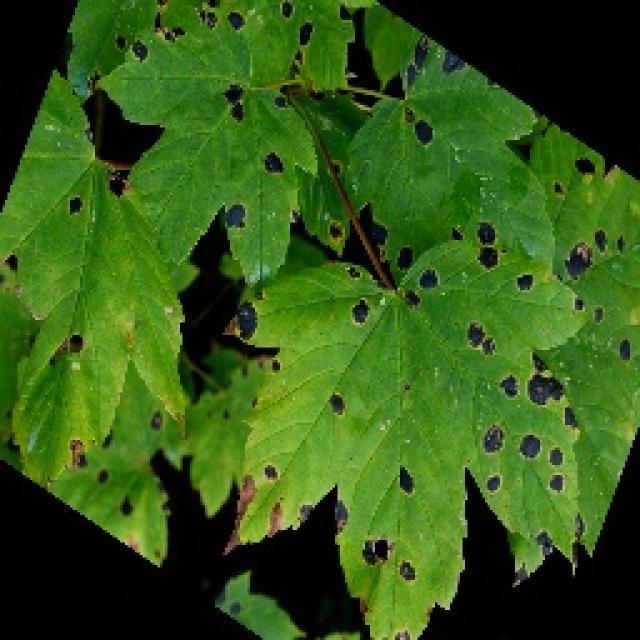Tar_Spot: (75, 55, 635, 640)
